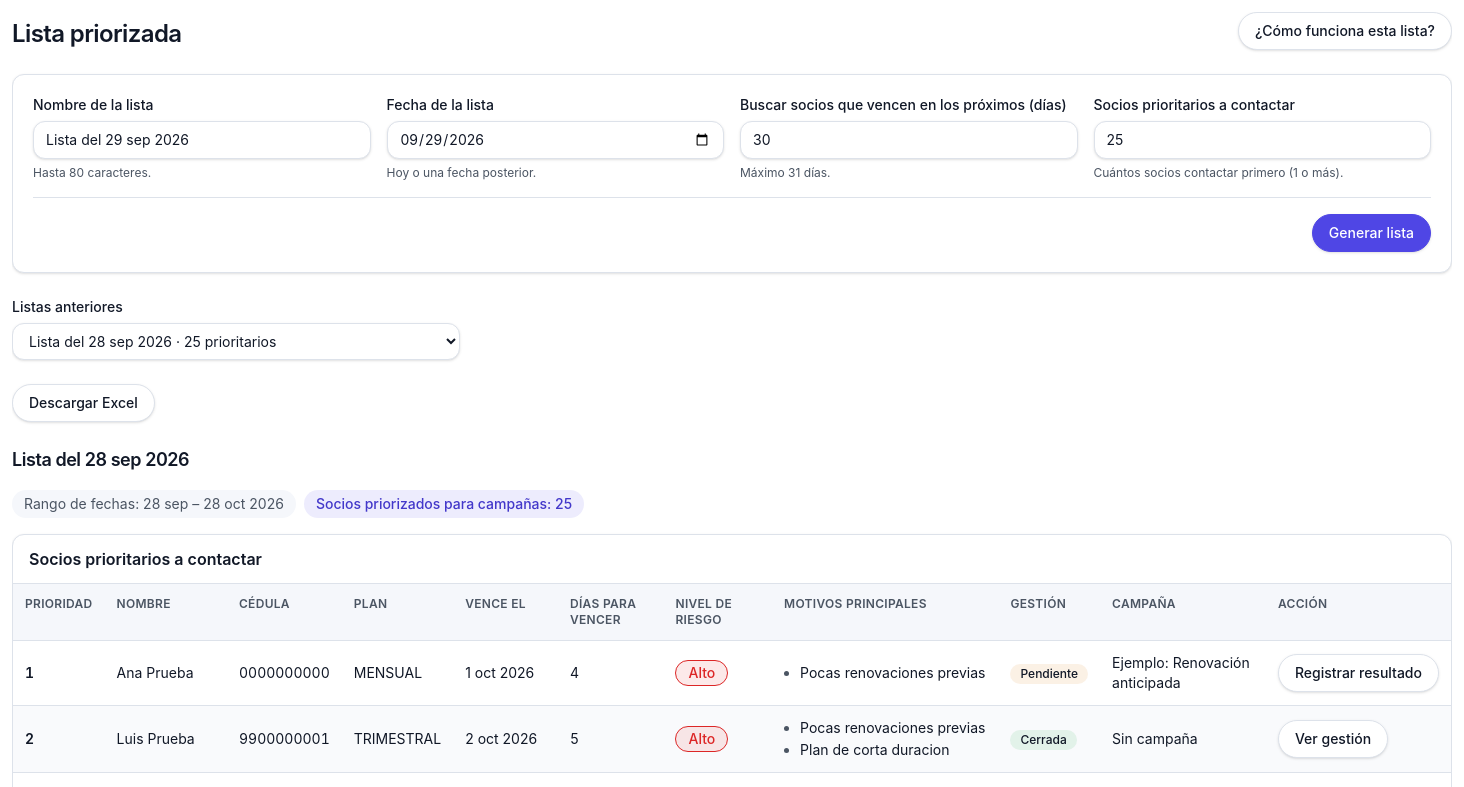
ListaPage › Generar lista → POST con los parametros y la tabla muestra la lista generada
The image size is (1464, 787).
Replace the text in the number field labelled "Buscar socios que vencen en los próximos (días)" with "20" at coordinates (909, 140), box [740, 121, 1078, 159]
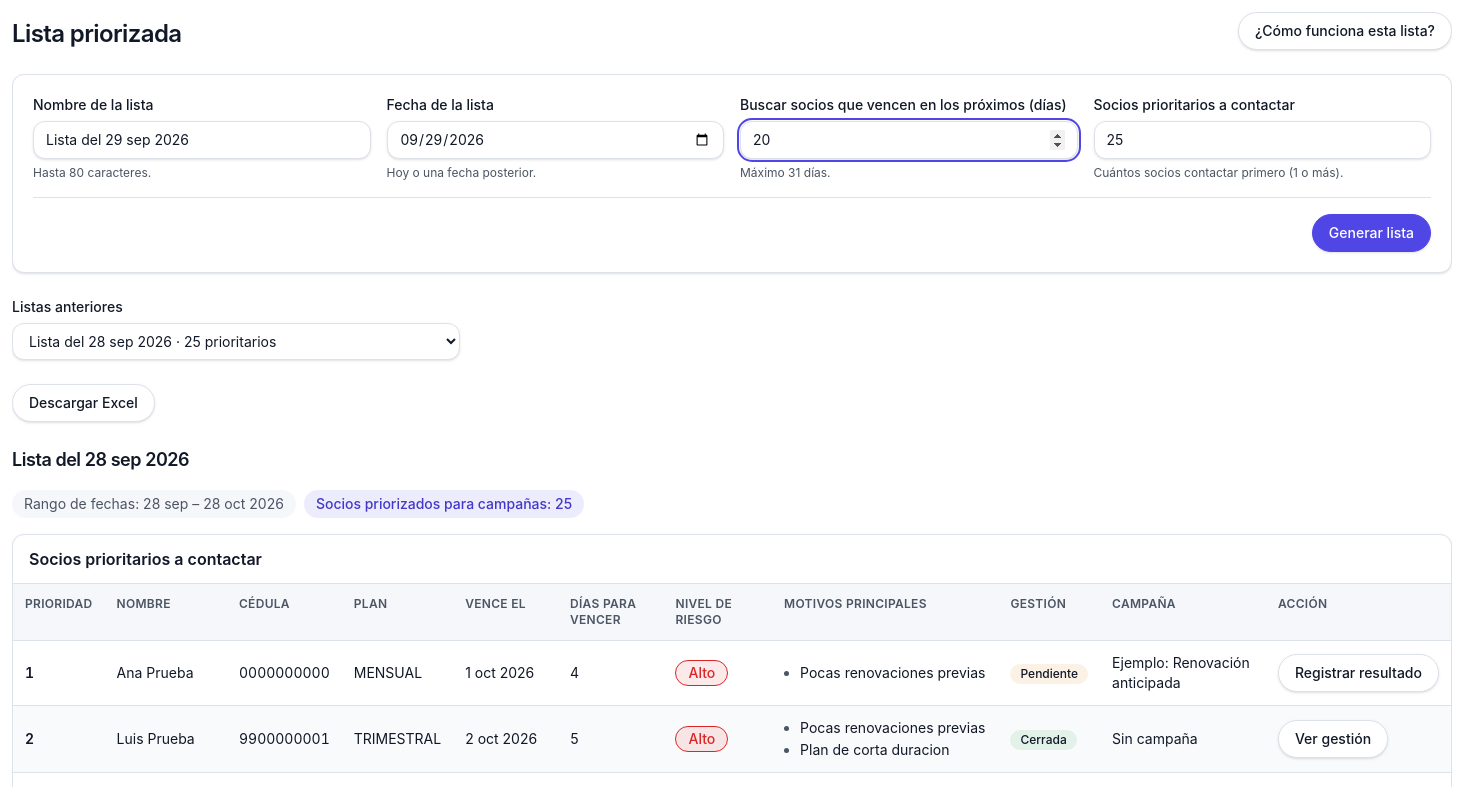
Replace the text in the number field labelled "Socios prioritarios a contactar" with "10" at coordinates (1262, 140), box [1094, 121, 1431, 159]
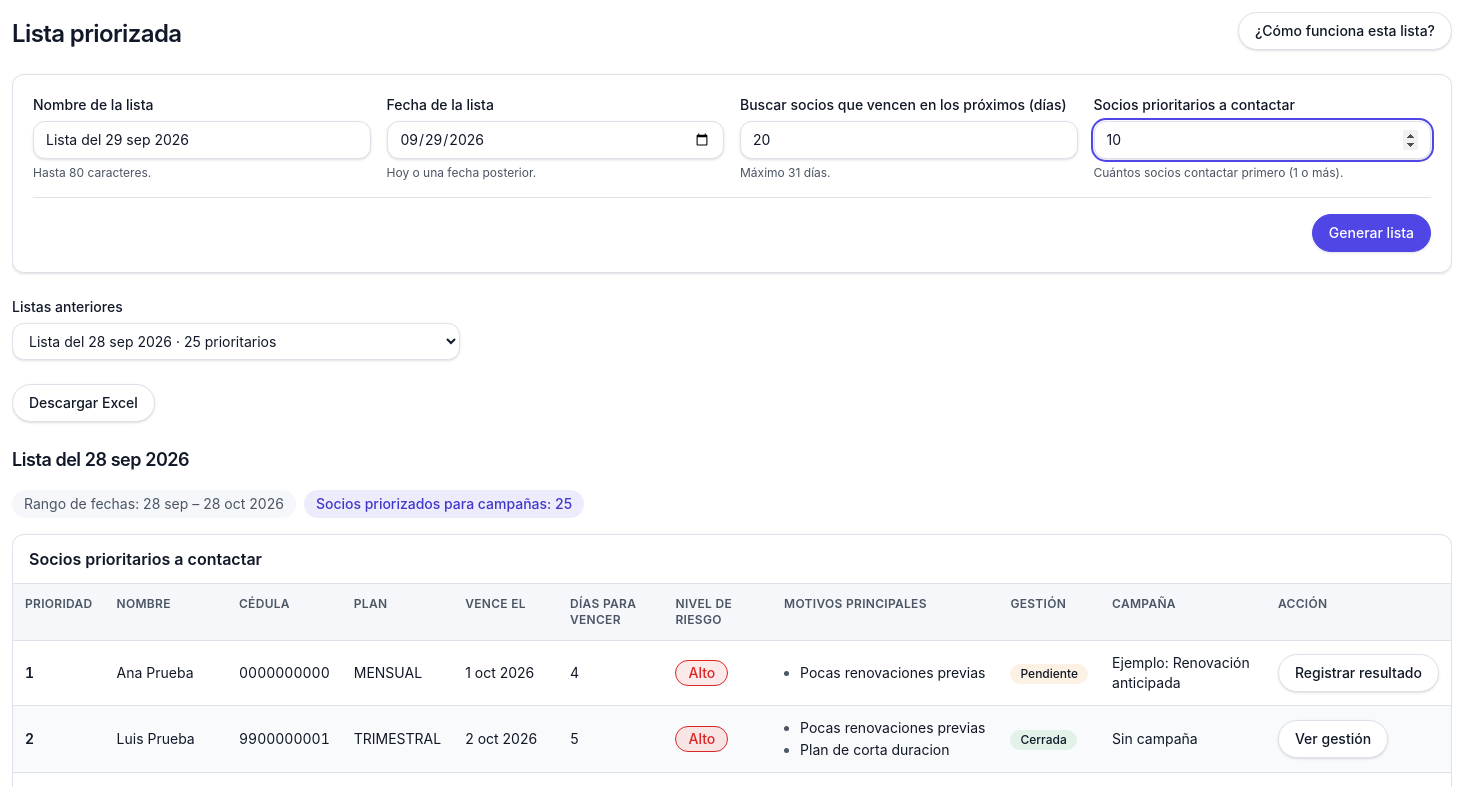
Type "2026-10-15" into the date field labelled "Fecha de la lista" at coordinates (555, 140), box [386, 121, 724, 159]
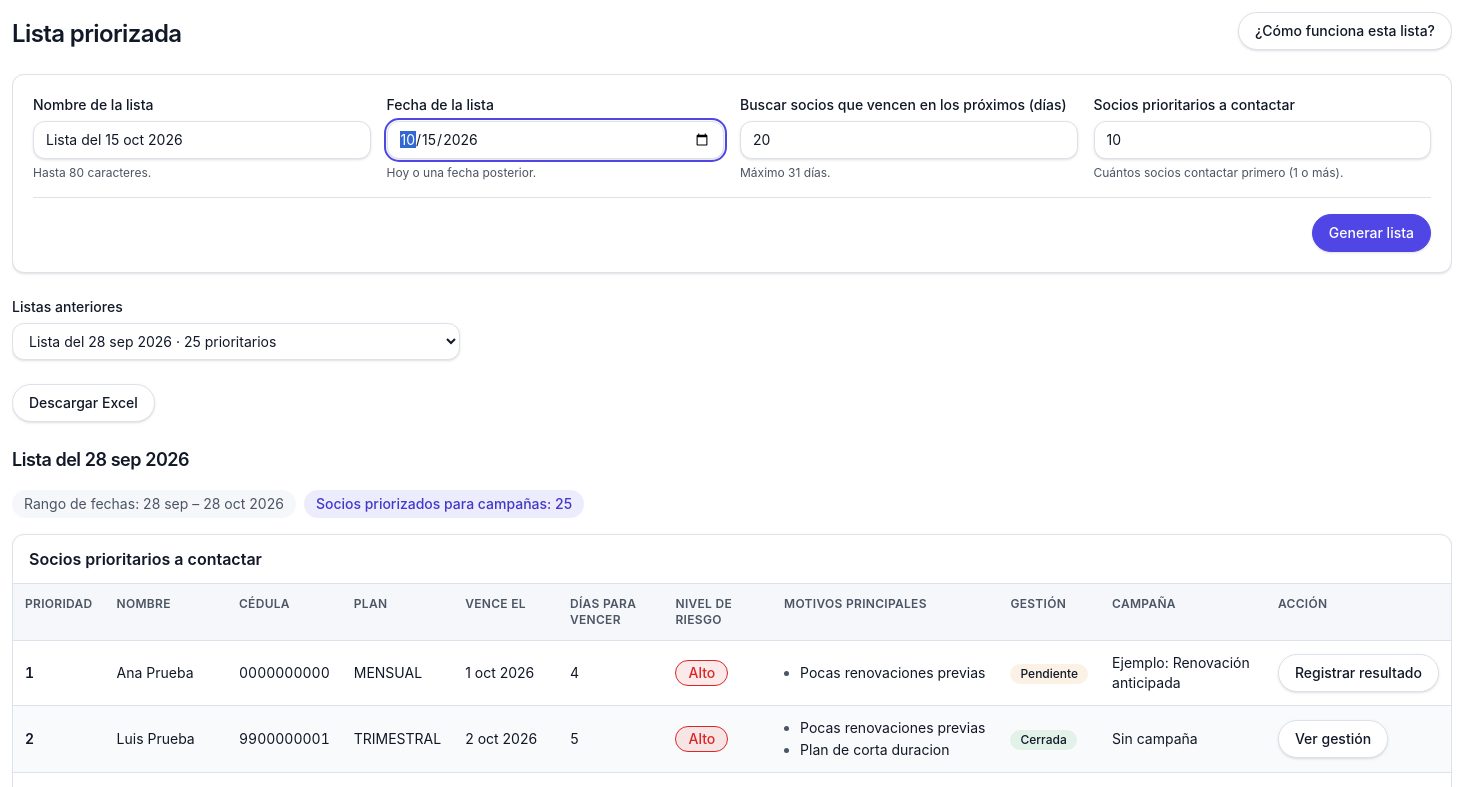
Click the button "Generar lista" at coordinates (1371, 233), box [1312, 214, 1431, 252]
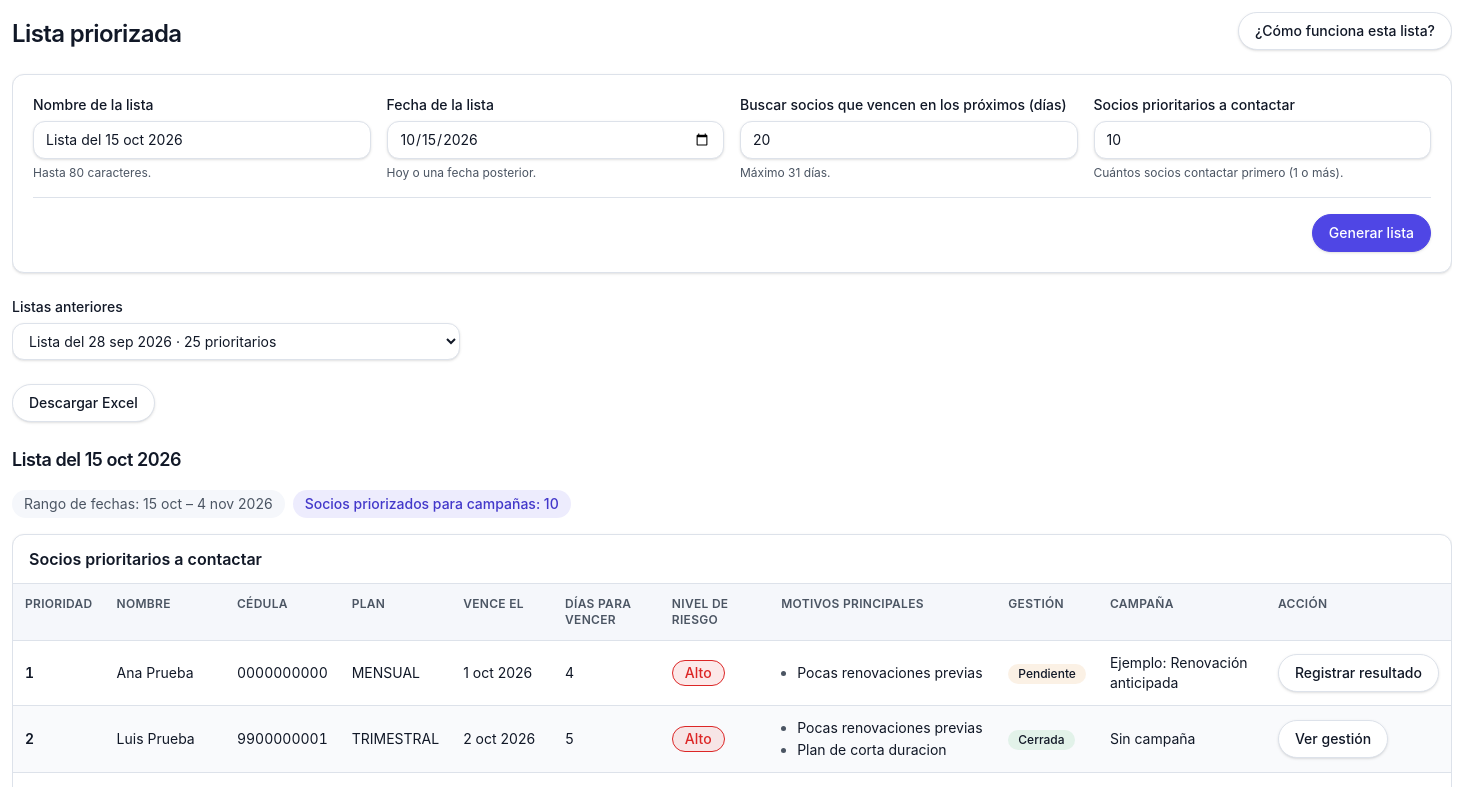
Expected: the text "Socios priorizados para campañas: 10" is shown, [293, 490, 571, 518]
Expected: the text "Rango de fechas: 15 oct – 4 nov 2026" is shown, [12, 490, 285, 518]
